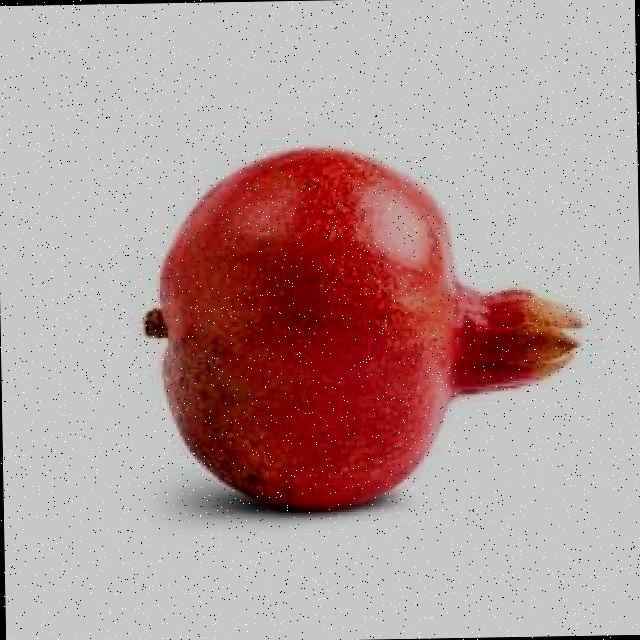Pomegranate: (139, 139, 592, 516)
